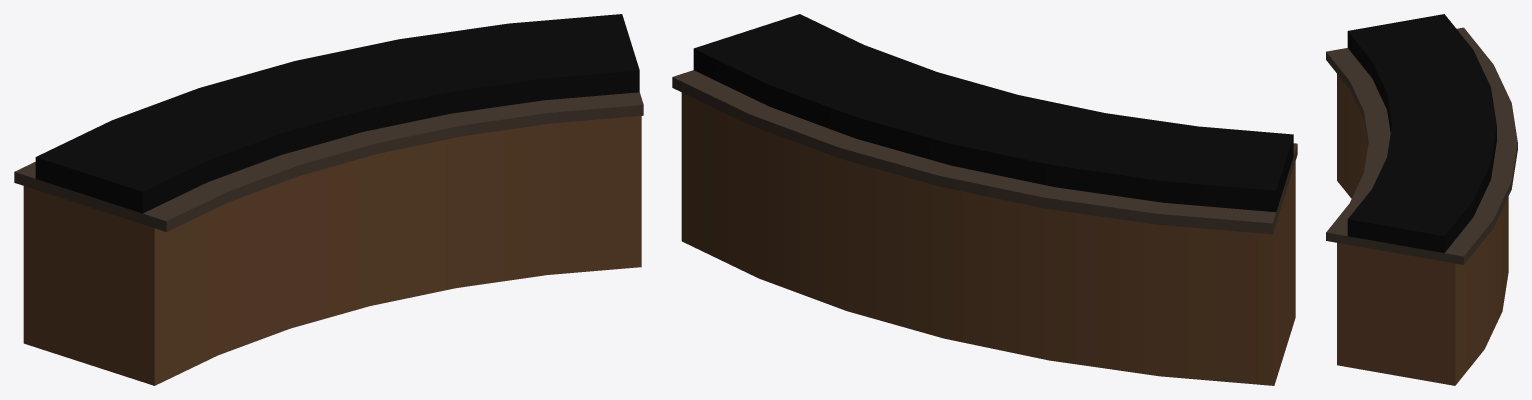
Rendered from curve_counter.glb.
The picture shows the model from 3 angles, left to right: view 1: azimuth 30°, elevation 25°; view 2: azimuth 150°, elevation 25°; view 3: azimuth 270°, elevation 25°; orthographic projection. The views are drawn at different scales.
Parts seen in each view (by area): view 1: sw5e_int_curve_counter; view 2: sw5e_int_curve_counter; view 3: sw5e_int_curve_counter.
Boxes of the visible parts, x1,y1,x2,y2 form: sw5e_int_curve_counter: (14, 14, 643, 385); sw5e_int_curve_counter: (672, 14, 1297, 385); sw5e_int_curve_counter: (1326, 14, 1517, 385).
Size of the model in its own units: 2.33 by 0.7 by 0.8227.
